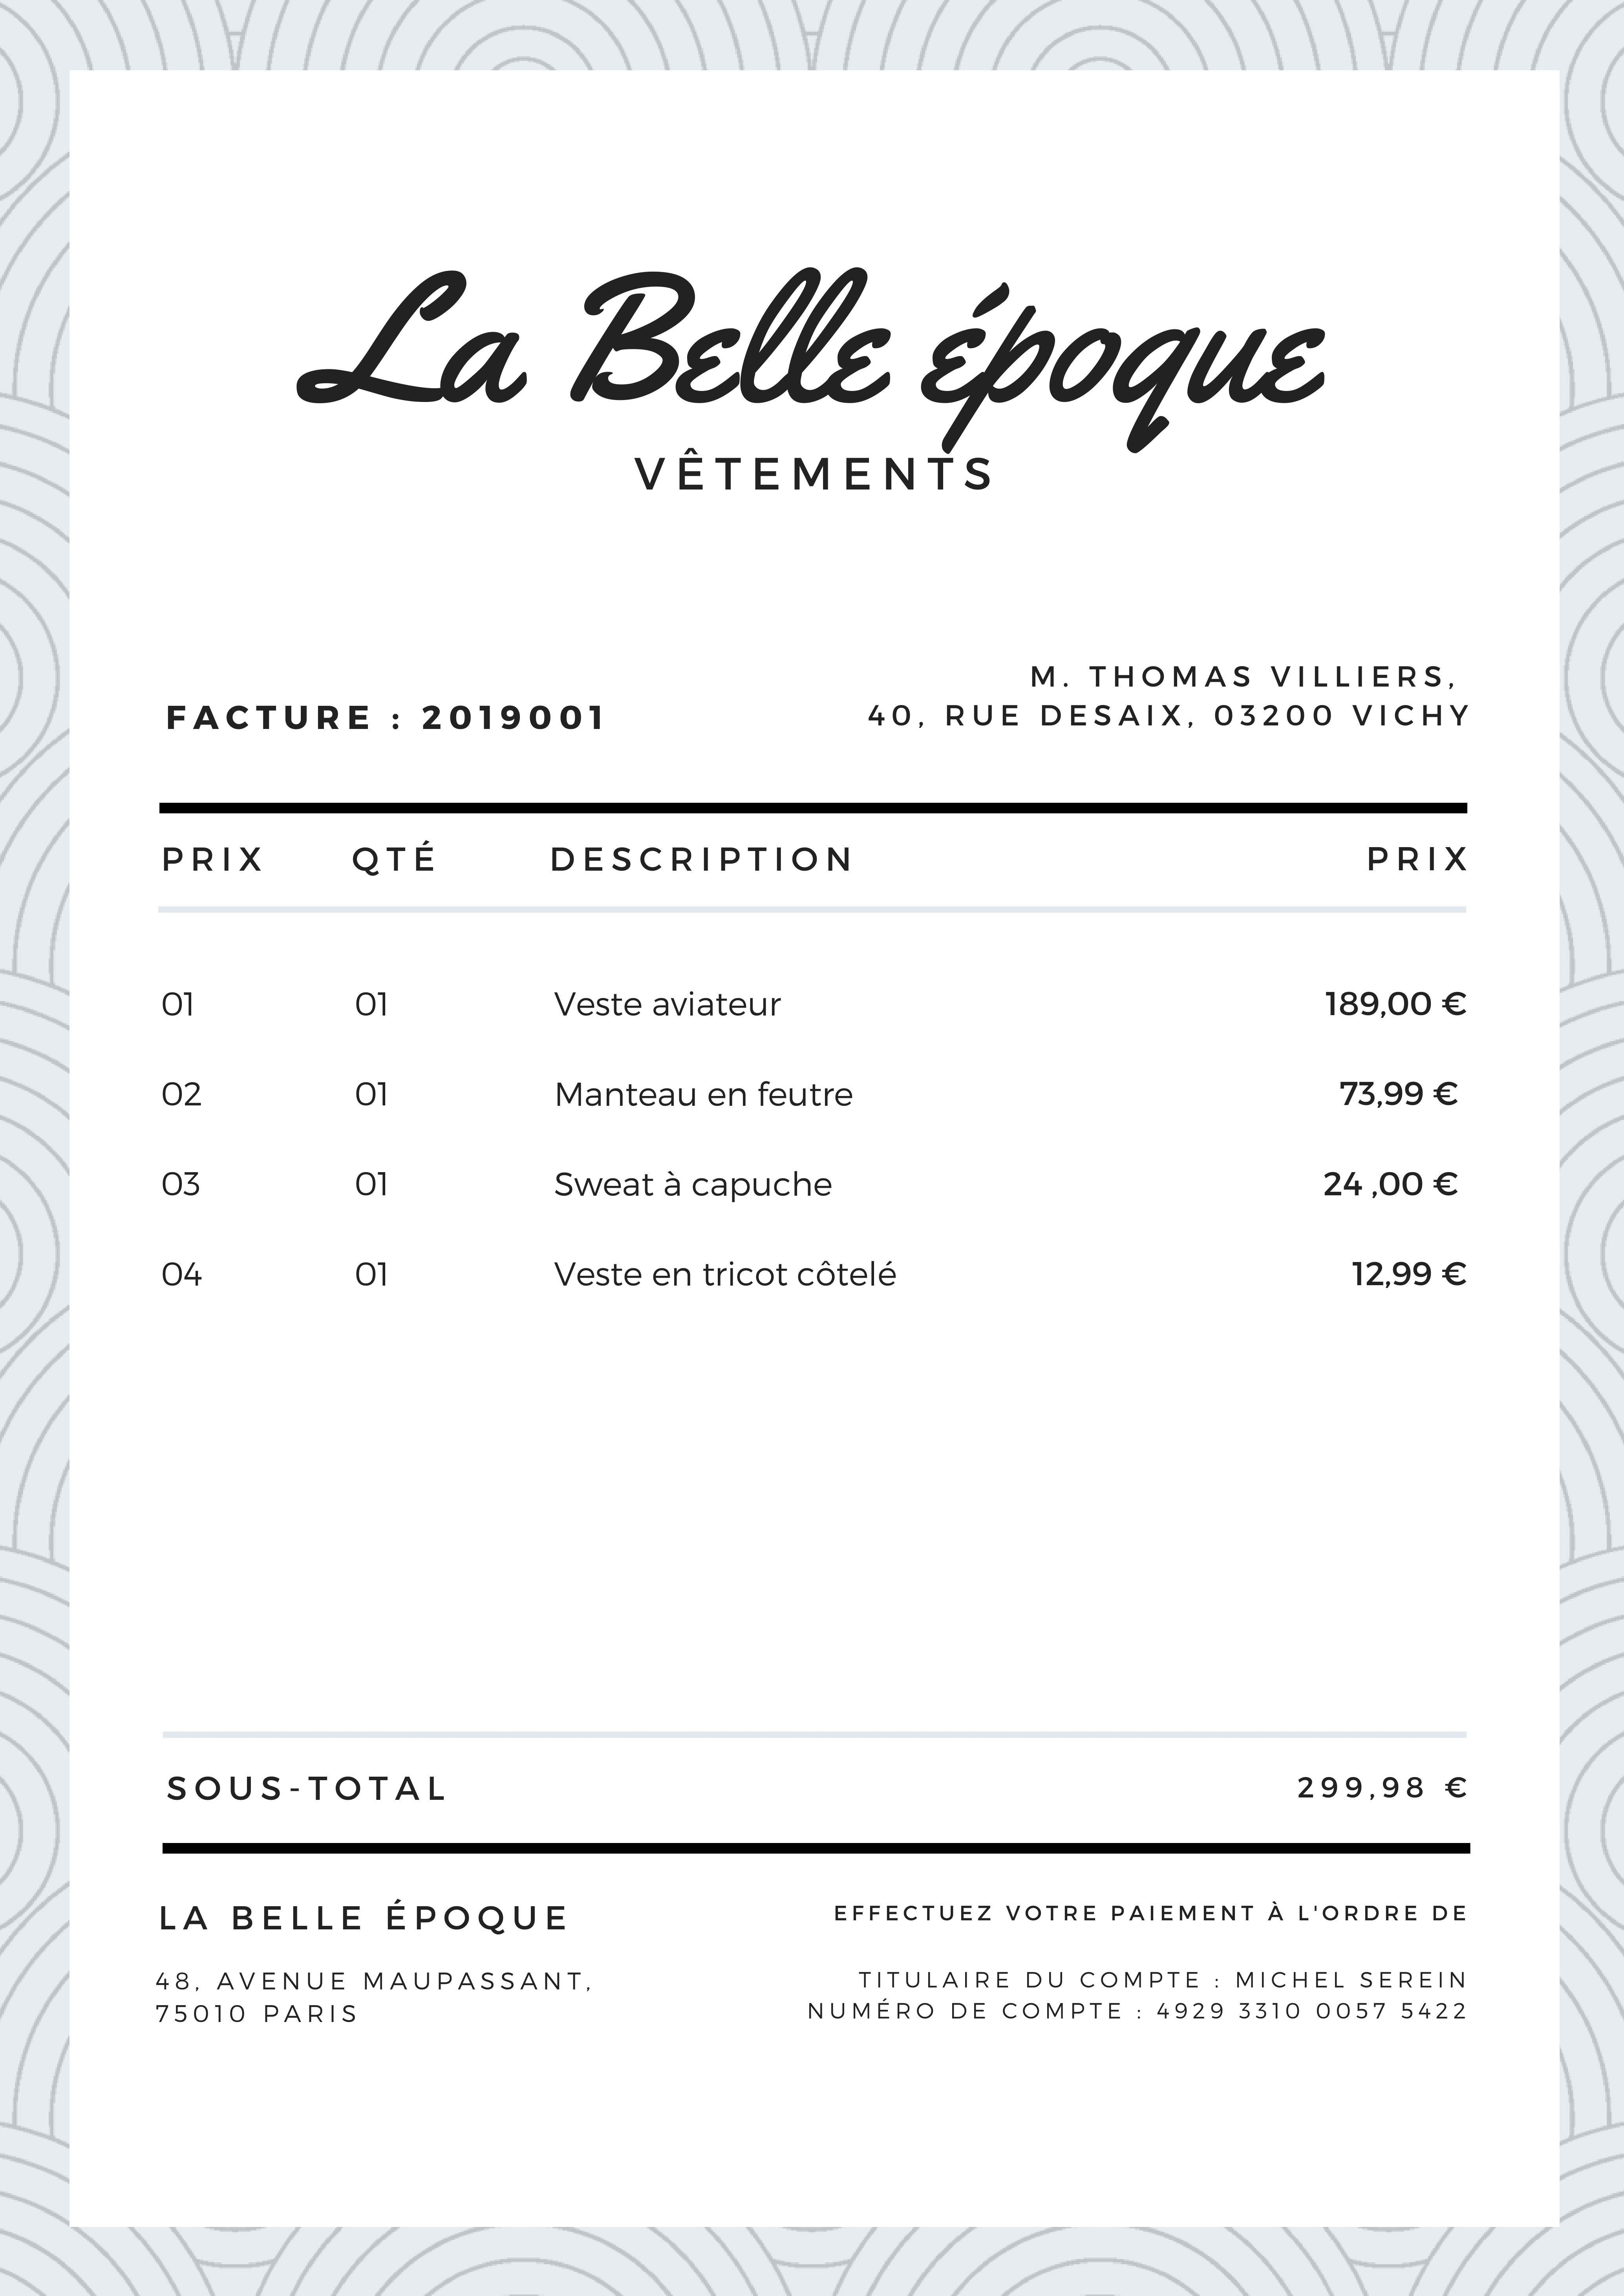ROI: (155, 805, 1476, 1307), (144, 1729, 1476, 1862), (768, 1892, 1497, 2045), (833, 625, 1492, 766), (135, 1892, 585, 2047), (144, 669, 629, 761)
